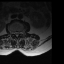CCS_normal: (16, 30, 18, 39)
LFS_stenosis: (20, 30, 21, 34)
LLS_normal: (18, 30, 20, 35)
RFS_stenosis: (12, 30, 14, 34)
RLS_normal: (14, 30, 16, 36)
